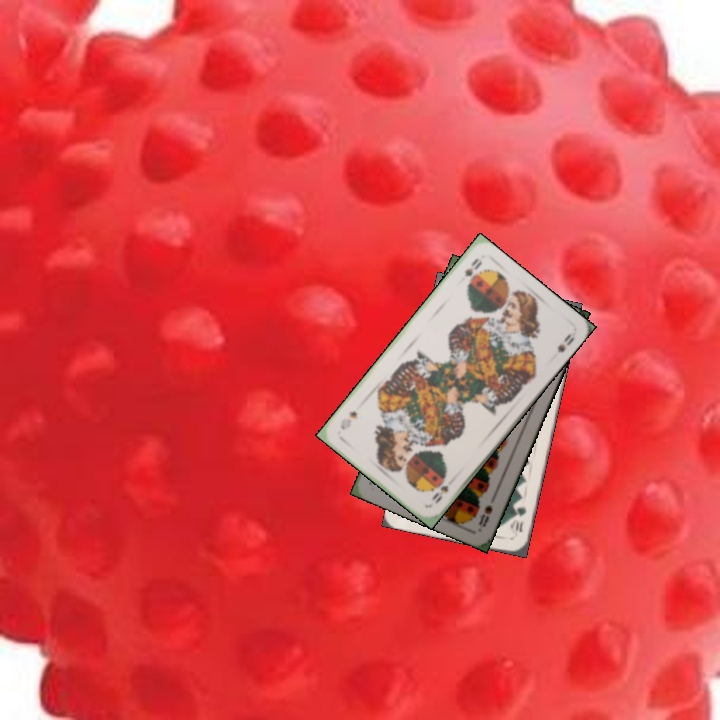G10: (509, 502, 529, 539)
S8: (475, 501, 495, 529)
SO: (427, 475, 451, 506), (460, 254, 484, 280)
